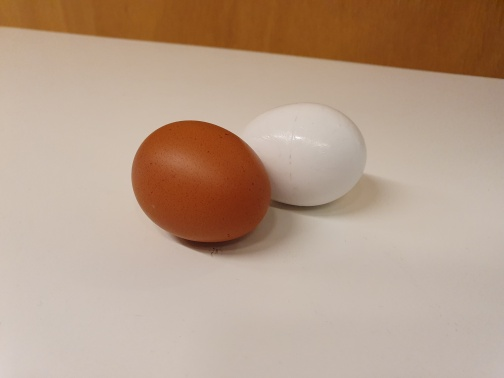egg: (131, 120, 273, 244), (243, 103, 367, 210)
